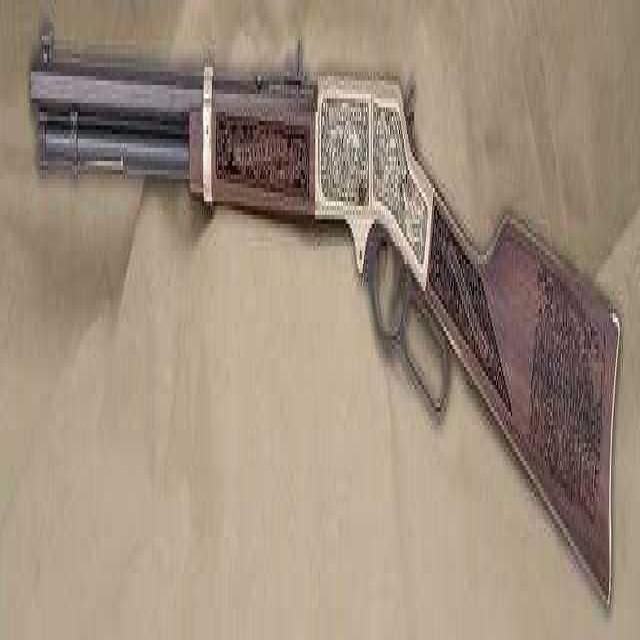Rifle: (22, 13, 633, 631)
